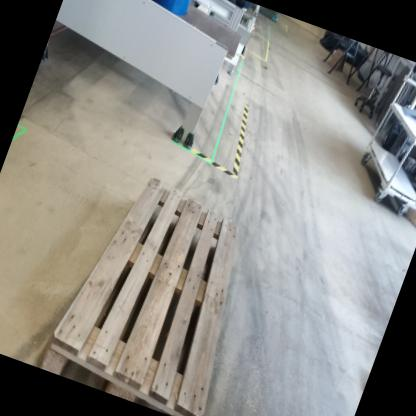BoxFace: (36, 171, 245, 416)
